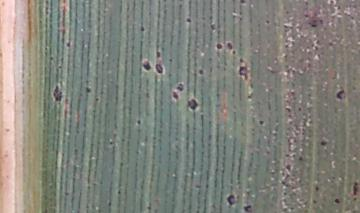tarspot: (302, 12, 327, 30), (51, 83, 67, 104), (237, 63, 252, 83), (334, 86, 347, 103), (224, 192, 238, 207), (186, 98, 201, 112), (196, 66, 210, 80), (141, 57, 152, 73), (154, 61, 165, 77), (176, 79, 186, 94), (170, 87, 178, 104), (351, 181, 360, 196), (223, 40, 234, 52), (206, 54, 216, 67), (257, 119, 269, 129), (241, 204, 254, 213), (184, 15, 195, 25), (133, 117, 145, 126), (84, 85, 94, 95), (63, 40, 73, 50), (214, 41, 224, 51), (115, 187, 124, 198), (117, 159, 126, 169), (298, 153, 305, 165), (155, 49, 163, 59), (264, 17, 272, 27), (237, 56, 248, 62), (320, 139, 328, 147), (314, 184, 322, 192), (94, 97, 102, 105), (140, 25, 147, 34), (333, 197, 341, 204), (238, 1, 247, 7), (351, 197, 359, 203), (297, 105, 302, 113), (312, 199, 318, 205)
